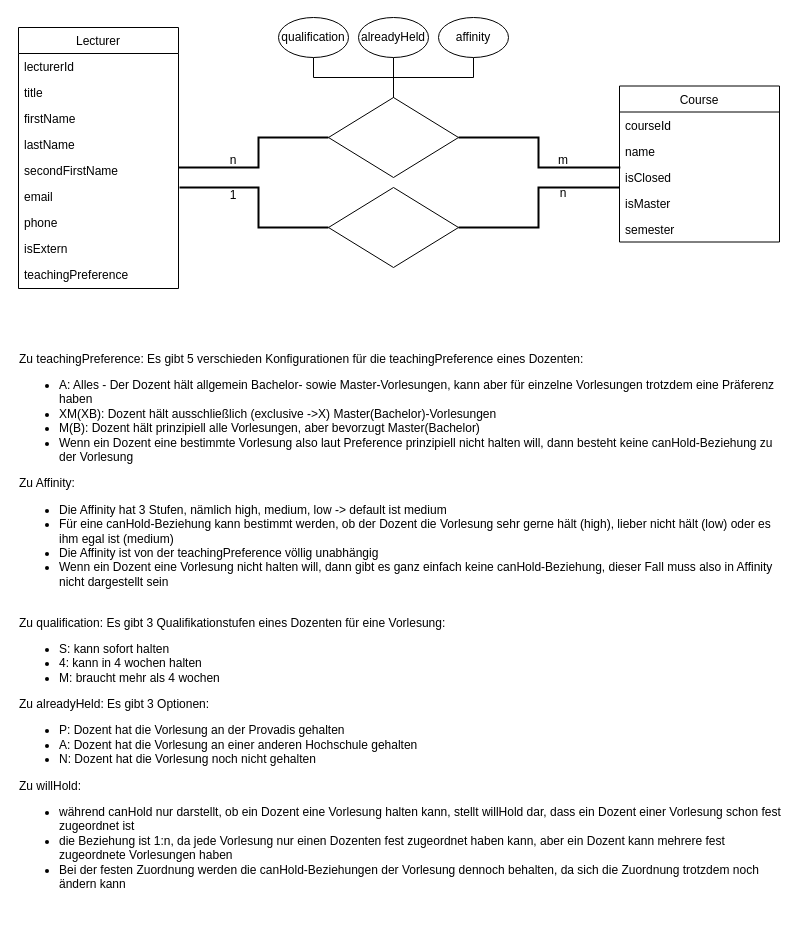
This 804x935 diagram has some shape labels left out. The centre of each missing label's shape, as x and y in pixels:
"canHold" goes at point (393, 137).
"willHold" goes at point (393, 227).
